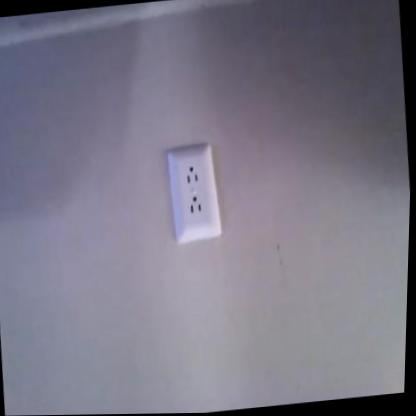OUTLET: (163, 145, 225, 243)
